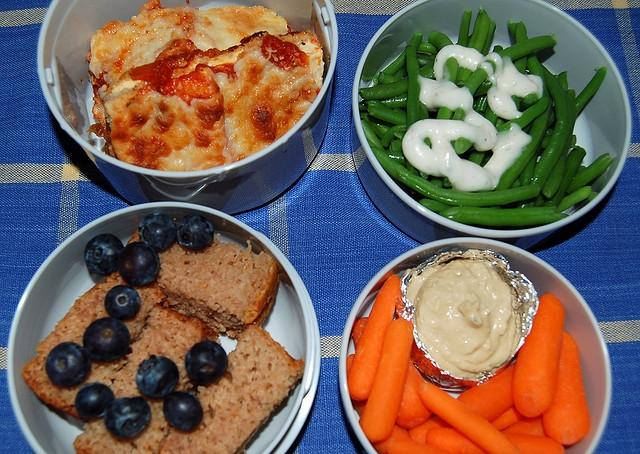blueberry: (44, 342, 91, 388), (136, 354, 180, 398), (184, 340, 228, 384), (106, 398, 150, 438), (84, 233, 124, 275), (162, 392, 204, 430), (138, 214, 178, 253), (177, 214, 214, 250), (104, 286, 140, 319)
carrot: (408, 362, 516, 445), (418, 383, 522, 454), (358, 318, 412, 443), (511, 293, 565, 418), (347, 276, 401, 400), (542, 331, 590, 446), (426, 427, 564, 454), (352, 399, 414, 454), (384, 441, 456, 454), (489, 406, 525, 431), (502, 417, 548, 436), (353, 317, 369, 351)
green bean: (371, 146, 539, 206), (530, 62, 571, 190), (494, 107, 551, 190), (542, 89, 576, 198), (362, 22, 416, 82), (358, 60, 436, 100), (440, 205, 569, 227), (372, 32, 423, 86), (428, 31, 459, 119), (457, 7, 489, 85), (361, 118, 406, 166), (567, 152, 613, 194), (575, 66, 607, 118), (498, 36, 556, 61), (406, 44, 420, 130), (520, 141, 542, 187), (556, 186, 592, 212), (512, 22, 528, 74), (368, 105, 408, 125), (465, 68, 488, 96), (481, 17, 497, 56), (382, 123, 408, 146), (376, 92, 408, 108), (455, 137, 474, 154), (534, 190, 546, 207), (417, 55, 434, 66), (394, 132, 406, 140)
